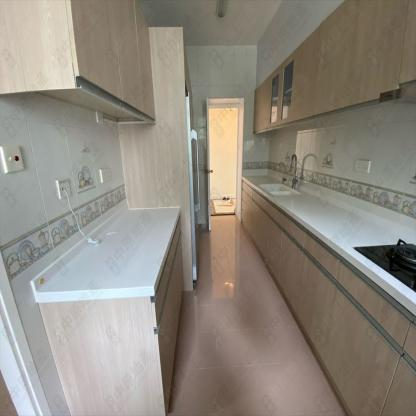Cupboard: (242, 180, 415, 414), (36, 209, 186, 415), (252, 0, 416, 134), (0, 0, 154, 126)
Exhaust Hood: (379, 83, 415, 102)
Faucet: (275, 155, 301, 179)
Fridge: (185, 91, 200, 283)
Sink: (258, 182, 299, 197)
Stove: (353, 238, 416, 293)
